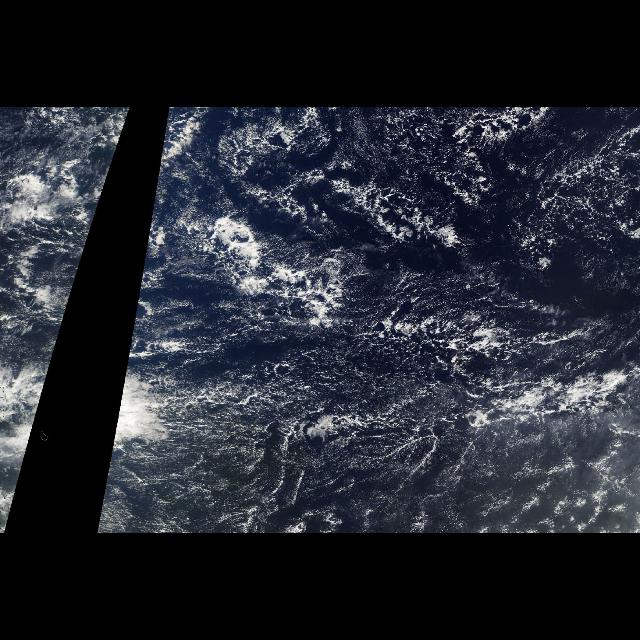Gravel: (100, 110, 640, 530), (0, 111, 132, 513)
Sugar: (160, 328, 640, 534)
